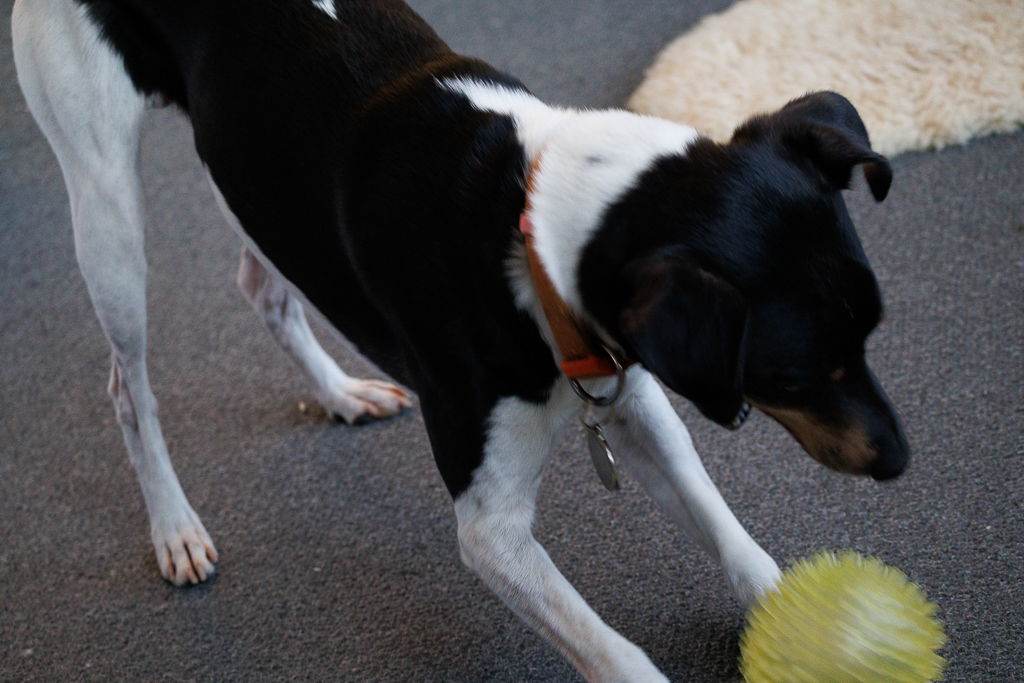Dog: (8, 0, 922, 683)
